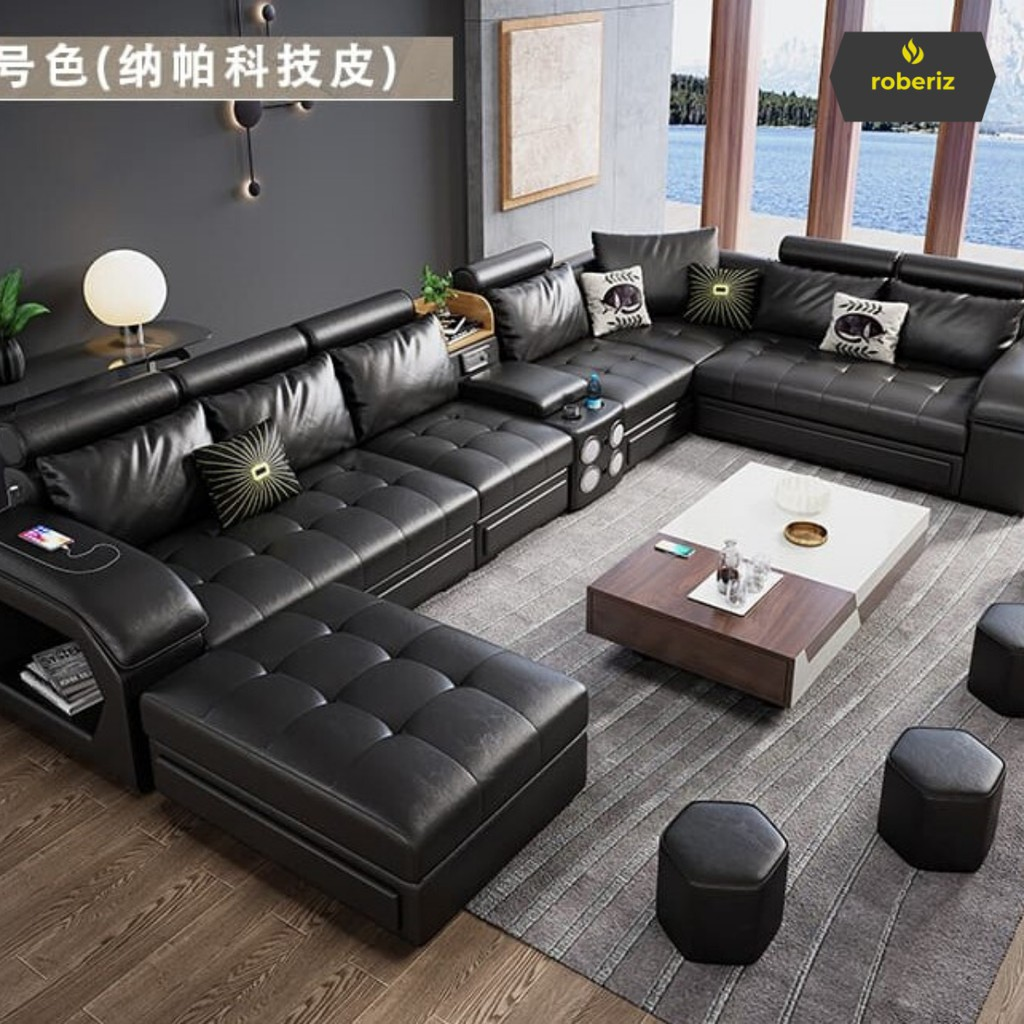meja: (574, 454, 936, 720)
sova: (4, 233, 747, 899)
